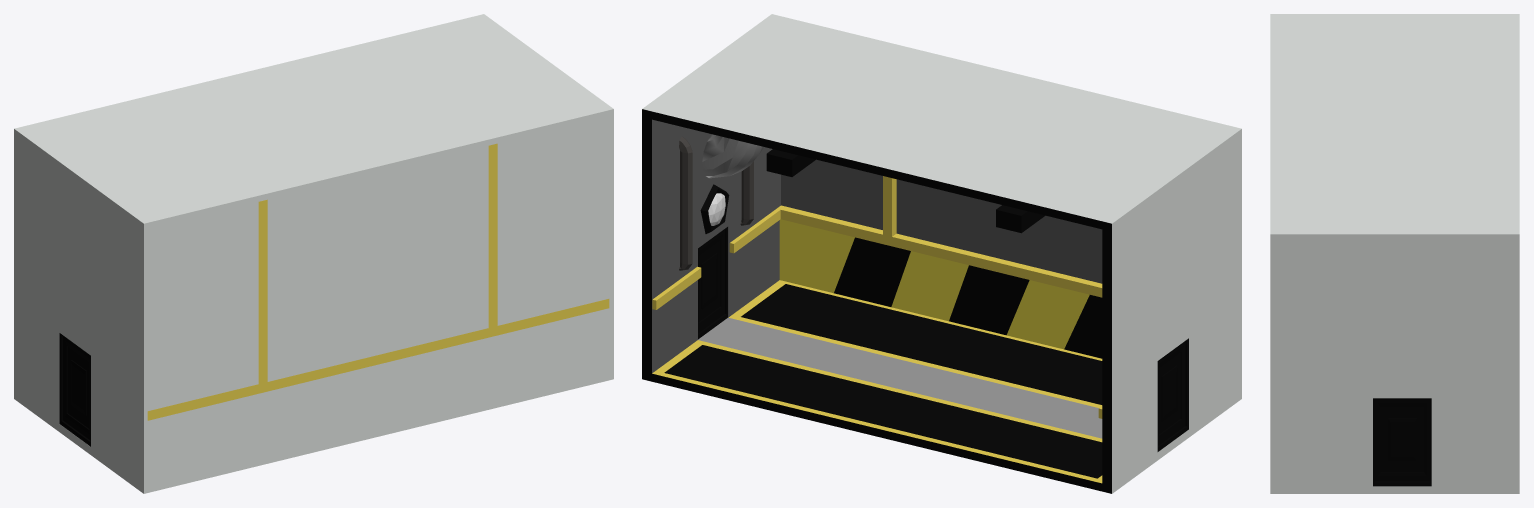
Rendered from Hall2.fbx.
3 views of the same model, side by side, from view 1: azimuth 30°, elevation 25°; view 2: azimuth 150°, elevation 25°; view 3: azimuth 270°, elevation 25° (orthographic). The views are drawn at different scales.
Visible parts, largest first — view 1: BaseRoom, YellowBarrer, DoorRight; view 2: BaseRoom, Hazard, YellowBarrer, DoorRight, DoorLeft, PipeLeft, Pipe.003, Light, Light.001, Pipe; view 3: BaseRoom, DoorLeft.
Boxes of the visible parts, x1,y1,x2,y2 form: BaseRoom: [14, 14, 613, 493]; YellowBarrer: [147, 143, 609, 420]; DoorRight: [59, 333, 90, 446]; BaseRoom: [642, 14, 1241, 493]; Hazard: [779, 219, 1102, 358]; YellowBarrer: [652, 176, 1102, 418]; DoorRight: [1157, 338, 1188, 451]; DoorLeft: [698, 227, 727, 339]; PipeLeft: [702, 134, 763, 178]; Pipe.003: [679, 136, 692, 270]; Light: [766, 149, 815, 176]; Light.001: [996, 205, 1044, 233]; Pipe: [740, 161, 753, 225]; BaseRoom: [1270, 14, 1519, 493]; DoorLeft: [1373, 398, 1431, 486].
Size of the model in its own units: 1806 by 992 by 864.
